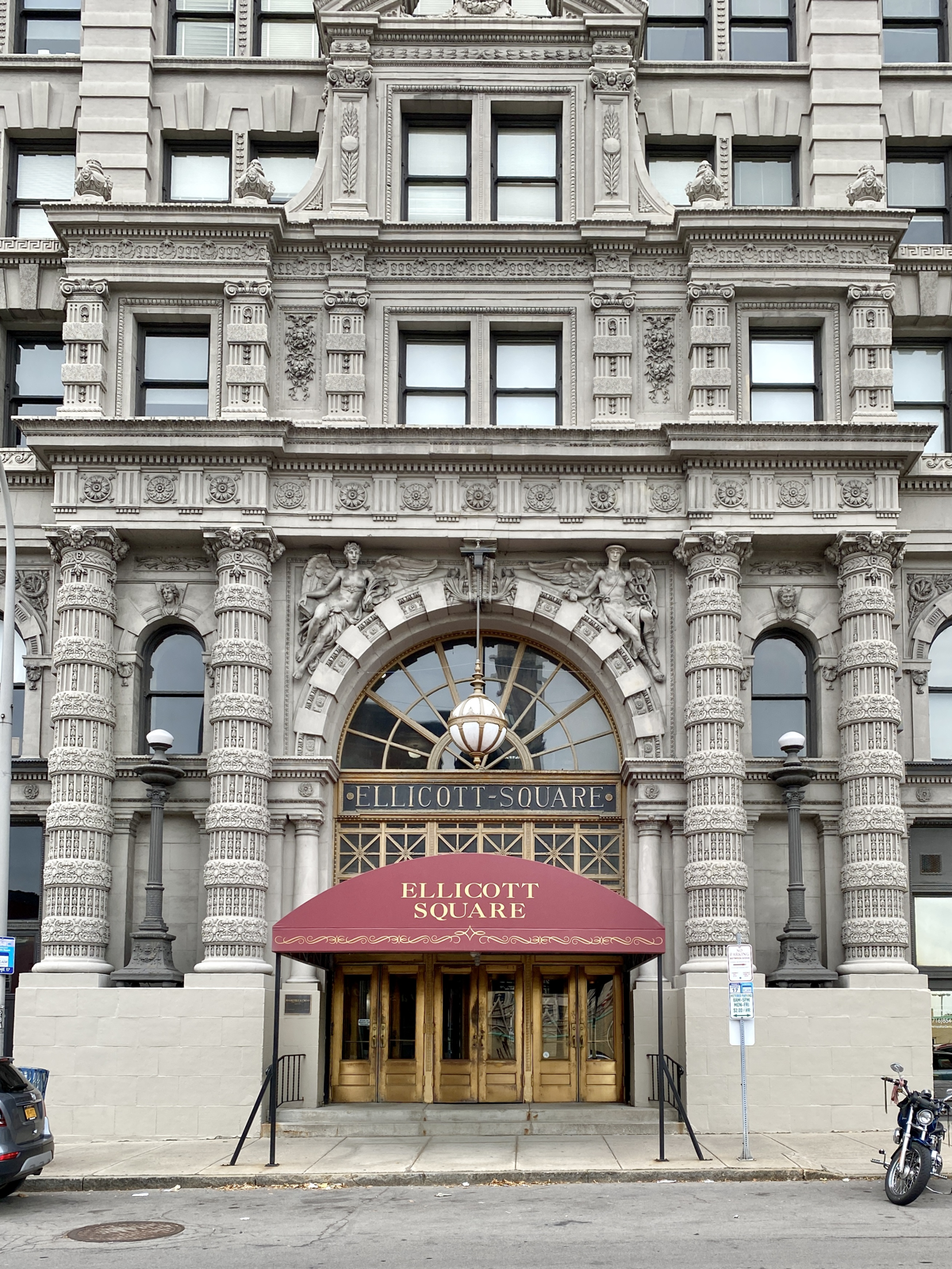fachada: (12, 4, 952, 1194)
poste: (111, 702, 214, 999), (754, 710, 853, 999)
